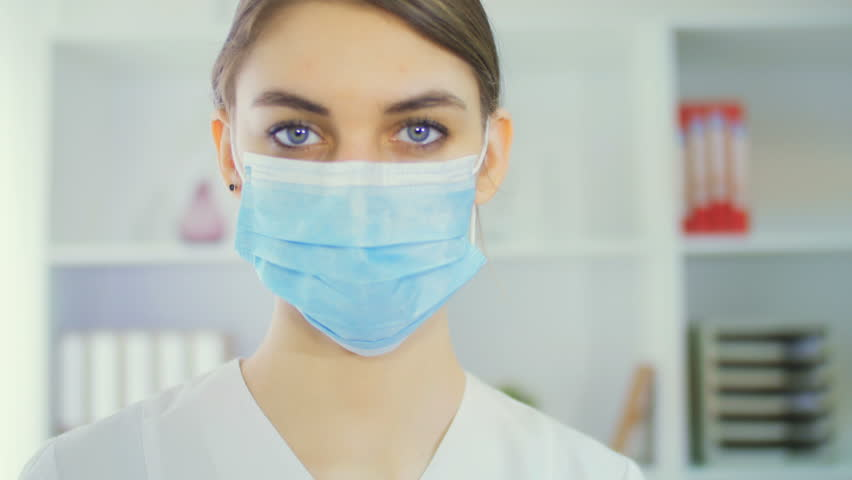surgical: (229, 148, 492, 361)
